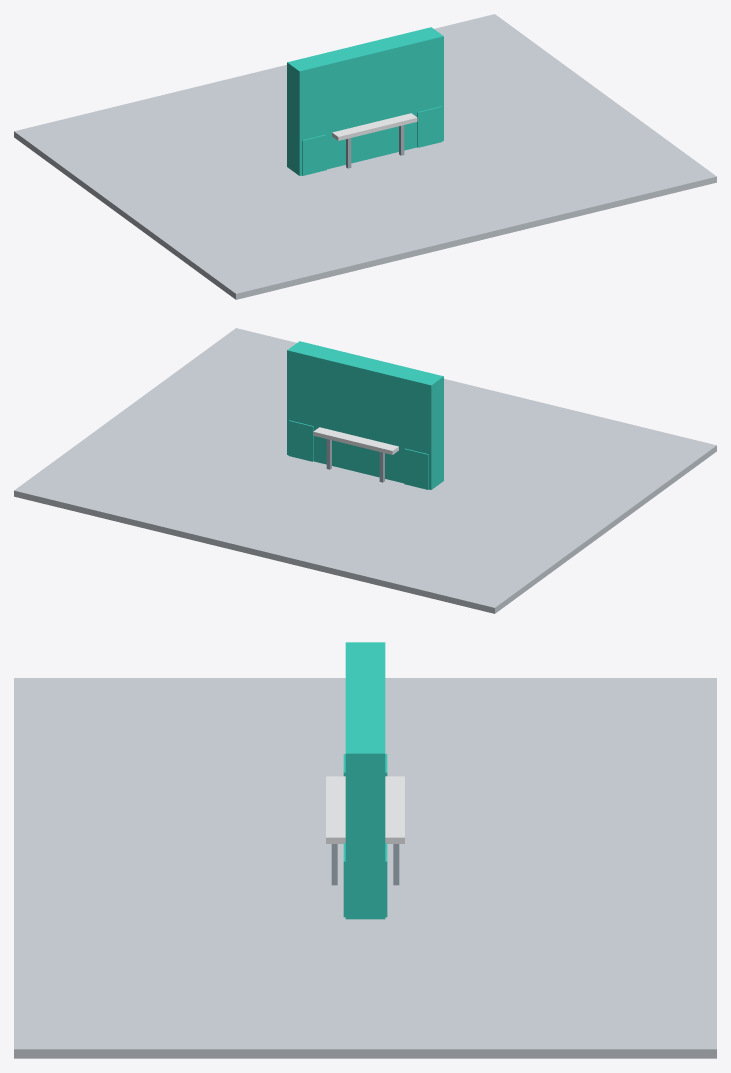
The picture shows the model from 3 angles, top to bottom: view 1: azimuth 30°, elevation 25°; view 2: azimuth 150°, elevation 25°; view 3: azimuth 270°, elevation 25°; orthographic projection. The views are drawn at different scales.
Visible parts, largest first — view 1: Exhibition Booth Concept; view 2: Exhibition Booth Concept; view 3: Exhibition Booth Concept.
Boxes of the visible parts, x1,y1,x2,y2 form: Exhibition Booth Concept: (14, 14, 716, 299); Exhibition Booth Concept: (14, 328, 716, 613); Exhibition Booth Concept: (14, 642, 716, 1058).
Size of the model in its own units: 10 by 2.2 by 8.
